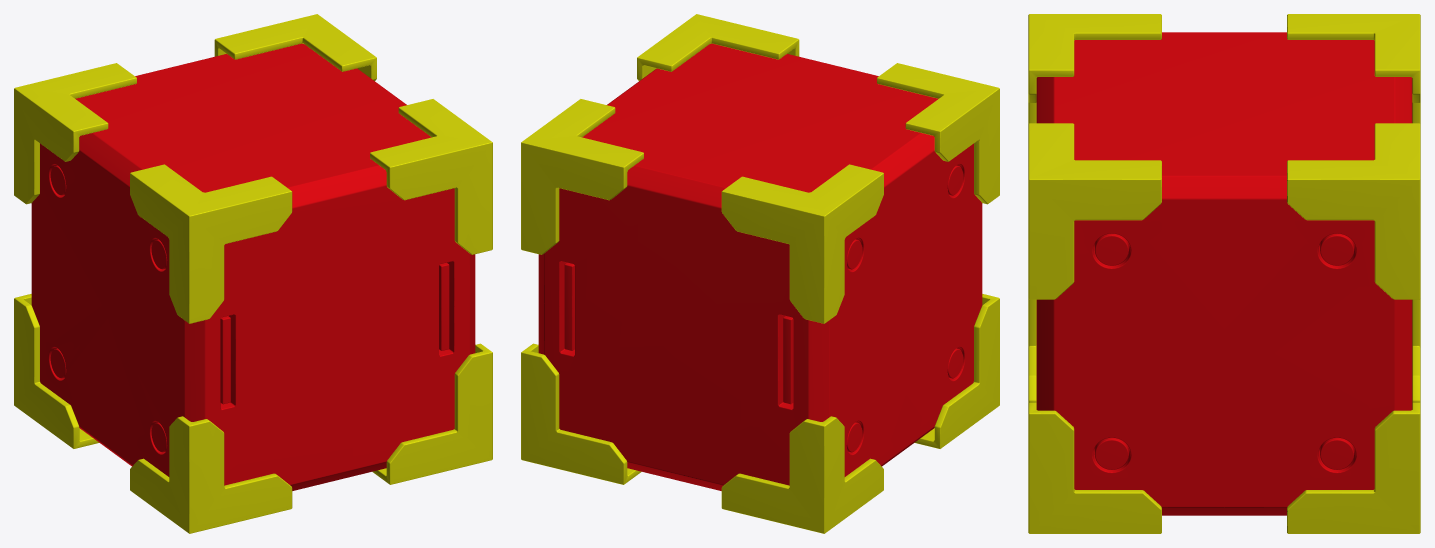
File: Scifi2_Crate_A.fbx
The picture shows the model from 3 angles, left to right: view 1: azimuth 30°, elevation 25°; view 2: azimuth 150°, elevation 25°; view 3: azimuth 270°, elevation 25°; orthographic projection. The views are drawn at different scales.
Parts seen in each view (by area): view 1: Crate; view 2: Crate; view 3: Crate.
Part boxes in pixels (<box>): Crate: <box>14,14,492,533</box>; Crate: <box>521,14,999,533</box>; Crate: <box>1028,14,1420,533</box>.
Bounding box in the file's own units: 209 × 209 × 209.
